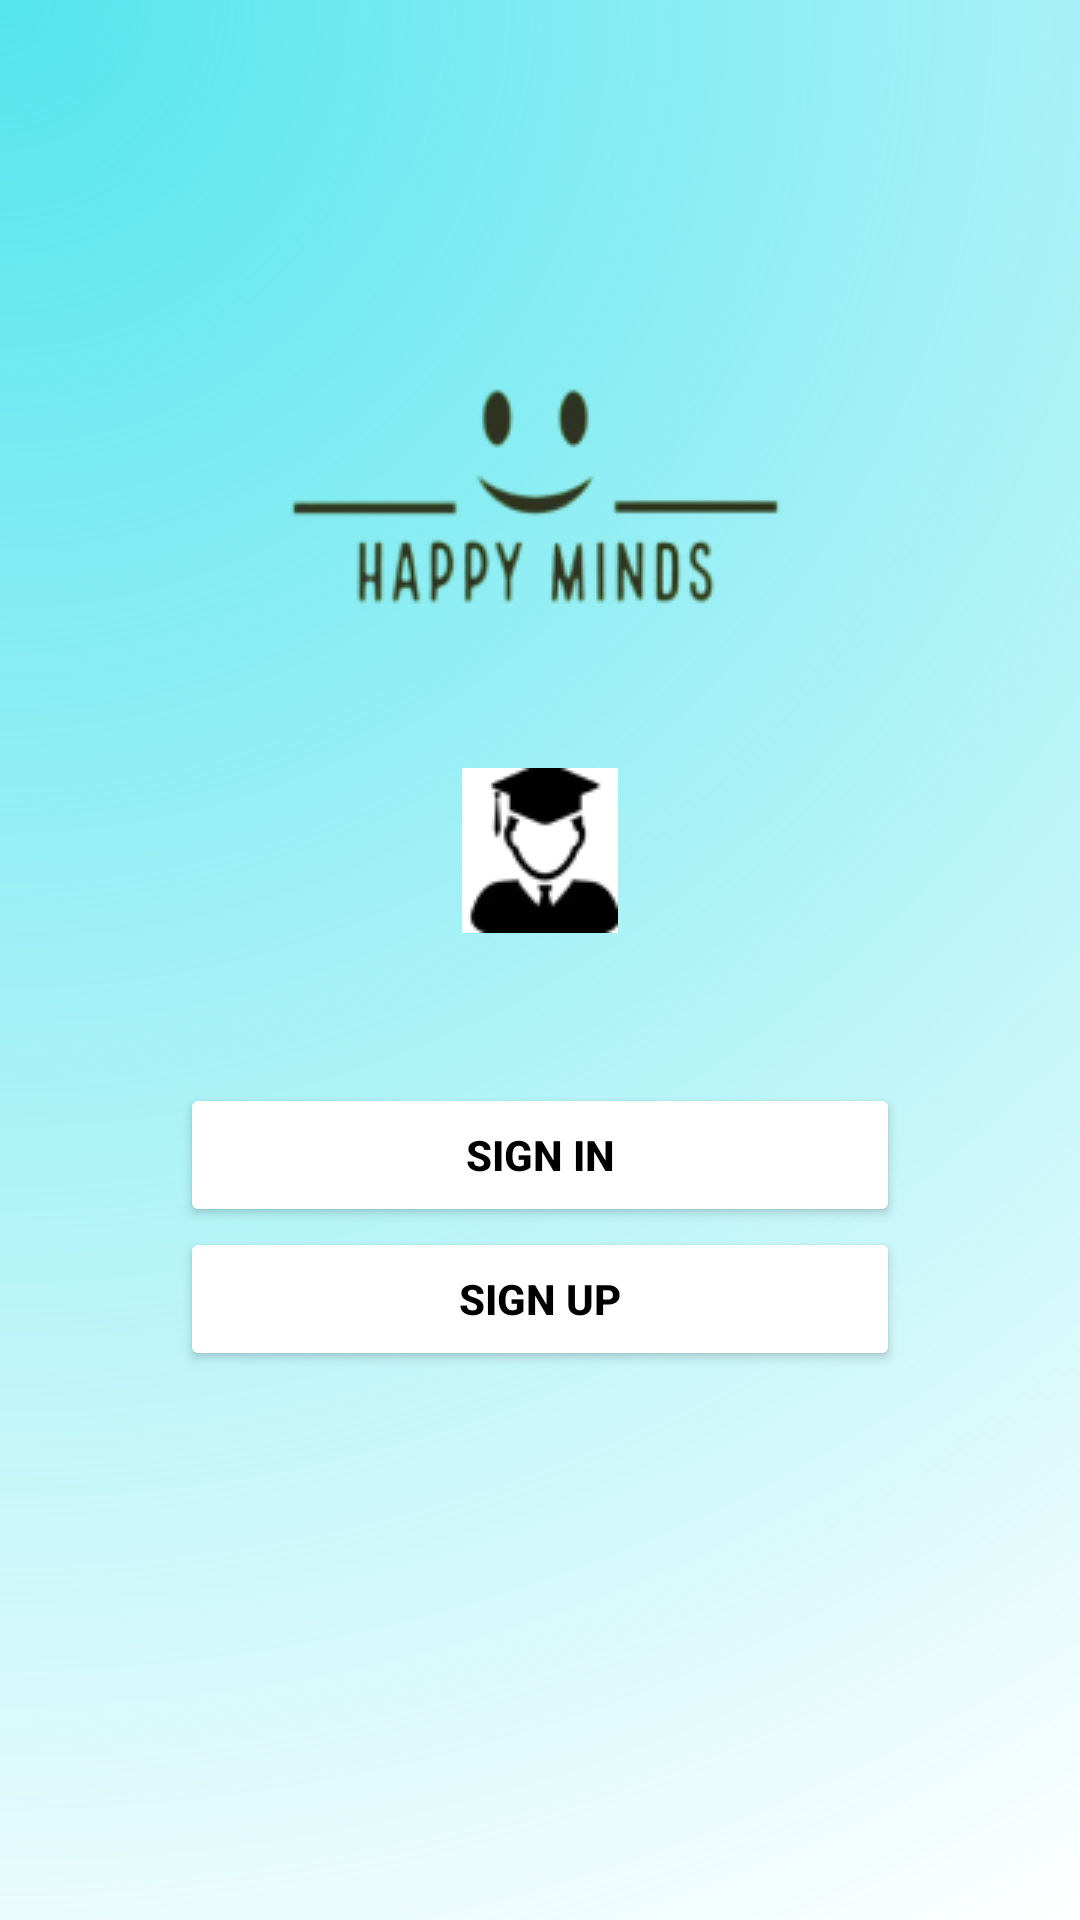

Icons on this 1080px×1920px Android screen, each with its box as (x1, y1, x2, y2):
student: (462, 768, 618, 933)
